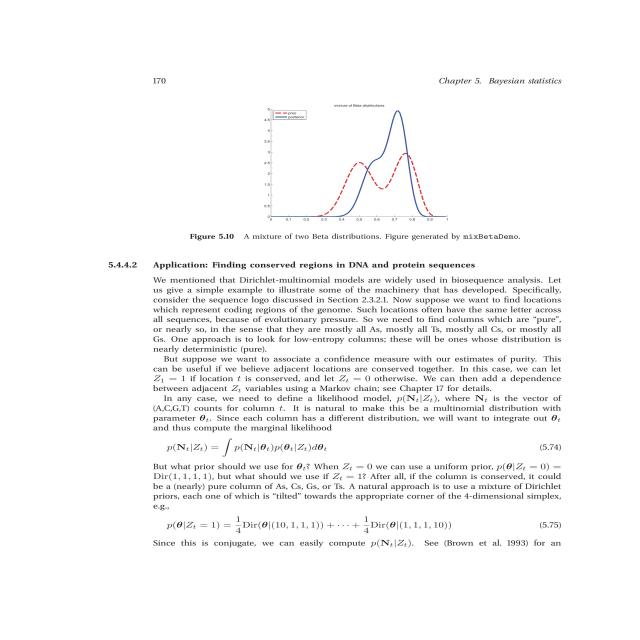diagram: (149, 102, 553, 250)
